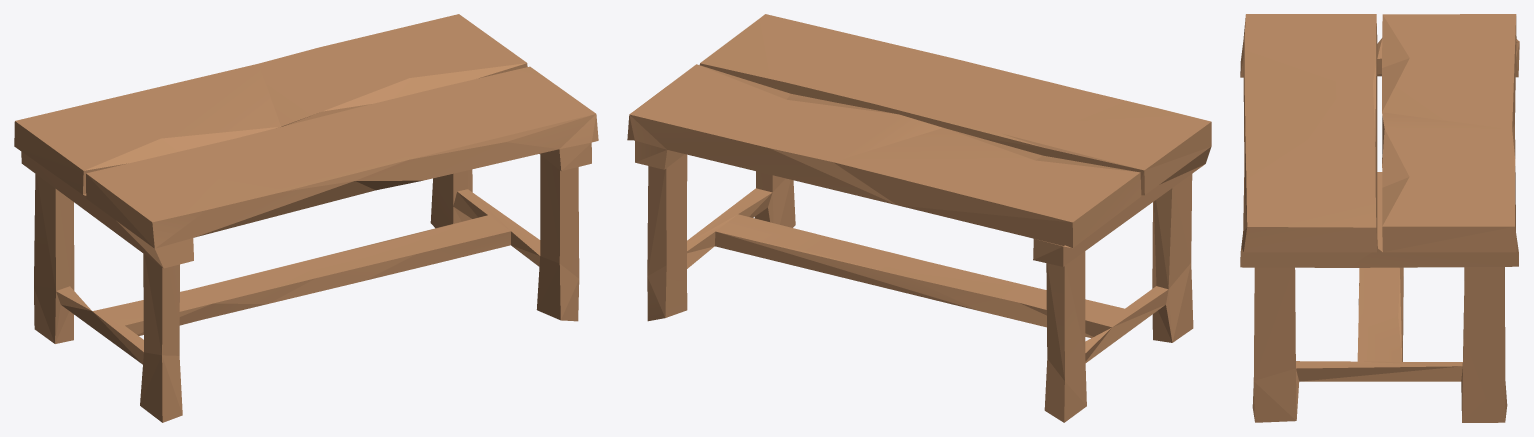
File: benchShabby (1).fbx
3 views of the same model, side by side, from view 1: azimuth 30°, elevation 25°; view 2: azimuth 150°, elevation 25°; view 3: azimuth 270°, elevation 25° (orthographic). The views are drawn at different scales.
Visible parts, largest first — view 1: benchShabby__1_; view 2: benchShabby__1_; view 3: benchShabby__1_.
Part boxes in pixels (x1,y1,x2,y2): benchShabby__1_: [14, 14, 598, 422]; benchShabby__1_: [627, 14, 1211, 422]; benchShabby__1_: [1240, 14, 1519, 422].
Size of the model in its own units: 236 by 105 by 131.
1 material, 1 textured.
